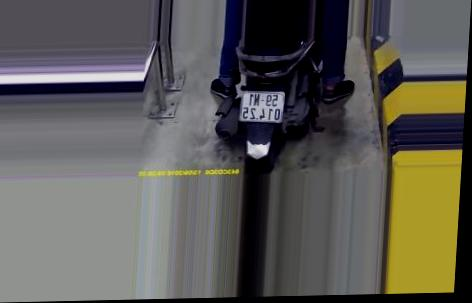License_Plate: (236, 86, 287, 124)
